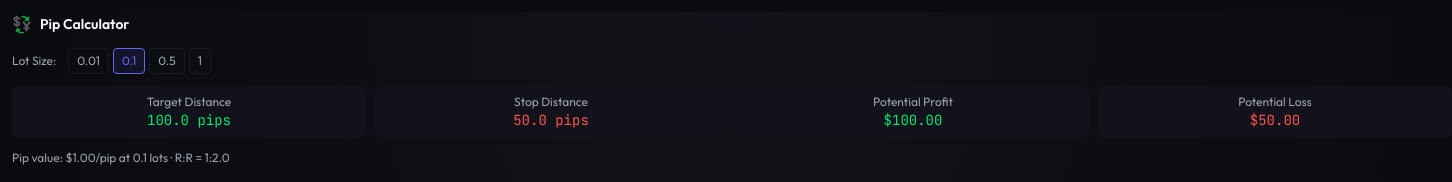
it: PipCalculator › updates pip value when lot size changes
Step 1. Click the button "1" → (200, 61), box top-left (189, 48), bottom-right (211, 74)
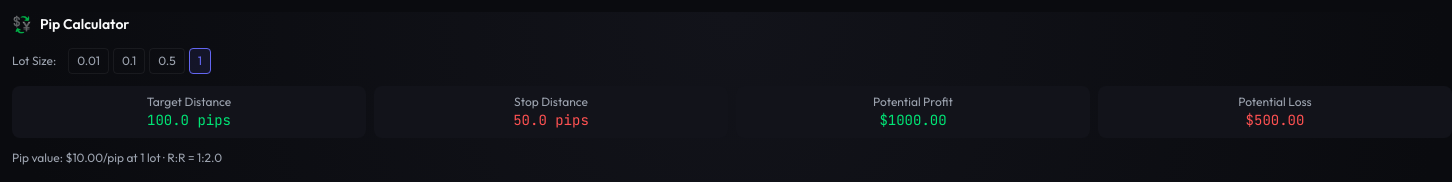
Result: the text "$1000.00" is shown at top-left (879, 111), bottom-right (947, 129)
